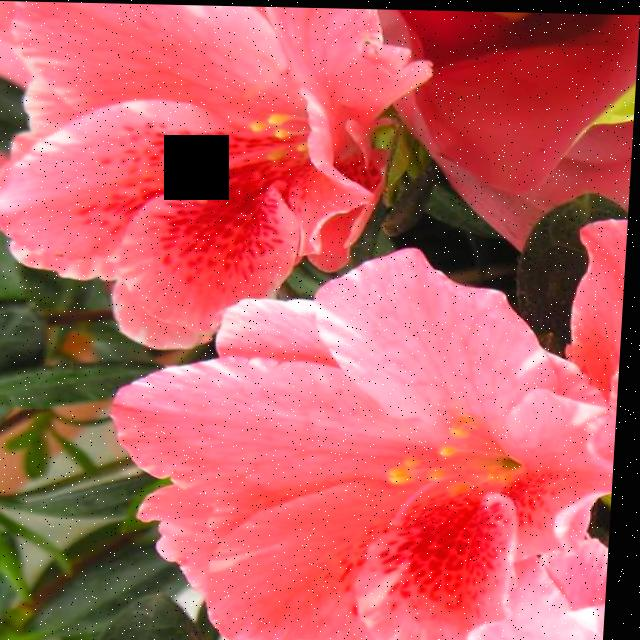azalea: (187, 295, 626, 640), (4, 0, 432, 313)
